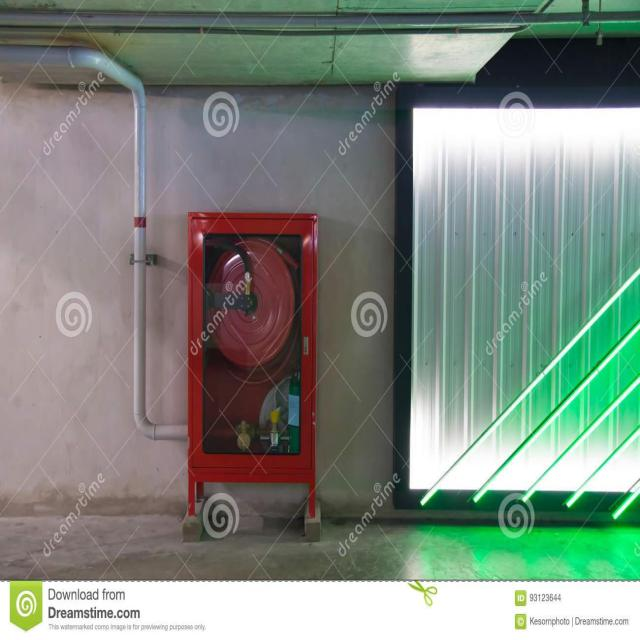fire_extinguisher: (278, 356, 313, 468)
